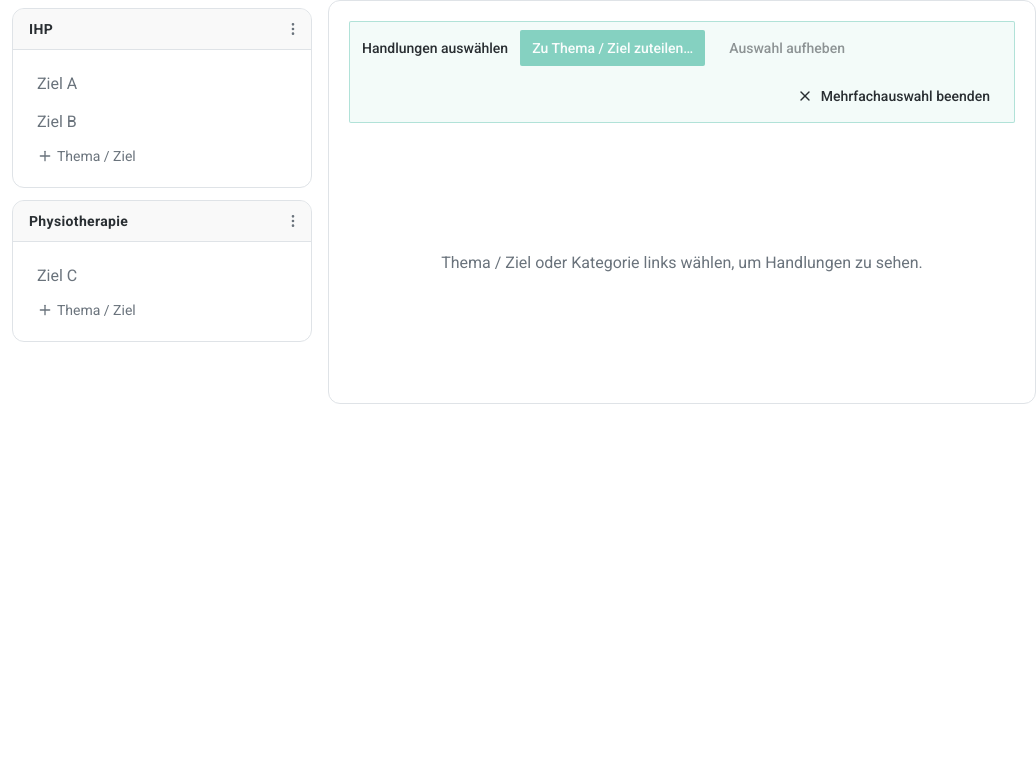
Test case: Planung: Mehrere einem Thema / Ziel zuteilen › wählt mit «alle» die Handlungen eines Themas / Ziels
What coordinates should you click on to do the following:
click the button "IHP"
I would click on:
 (41, 29)
Its box is [13,9,279,49].
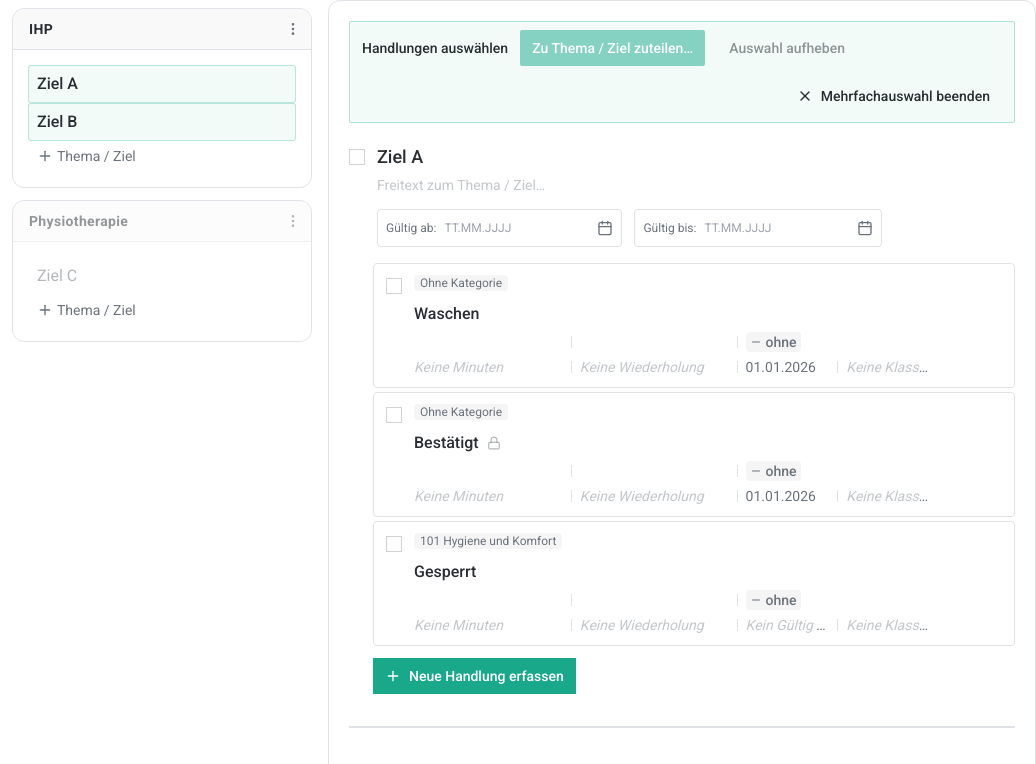
What coordinates should you click on to do the following:
click the checkbox named "Alle Handlungen von Ziel A auswählen"
I would click on:
 (357, 157)
Its box is [349,149,365,165].
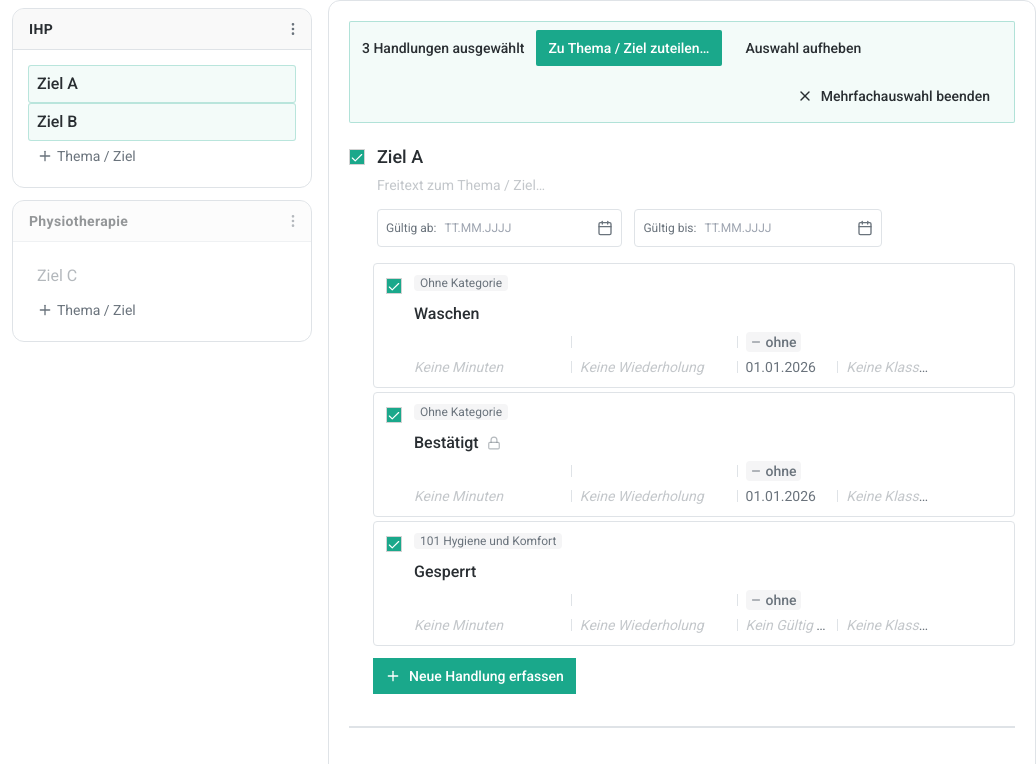
expect the text "3 Handlungen ausgewählt" is shown: met, box [362,38,524,58]
